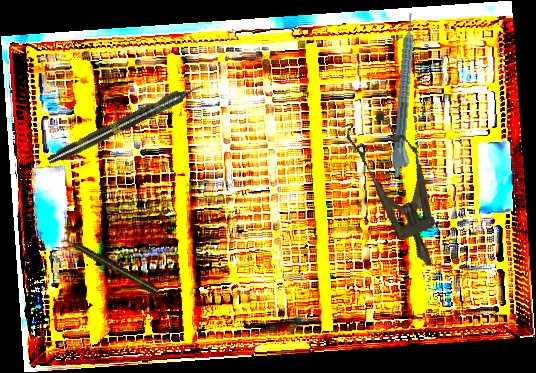Handpiece: (45, 79, 206, 168), (62, 234, 160, 297), (390, 12, 424, 179)
Speculum: (339, 103, 459, 278)
